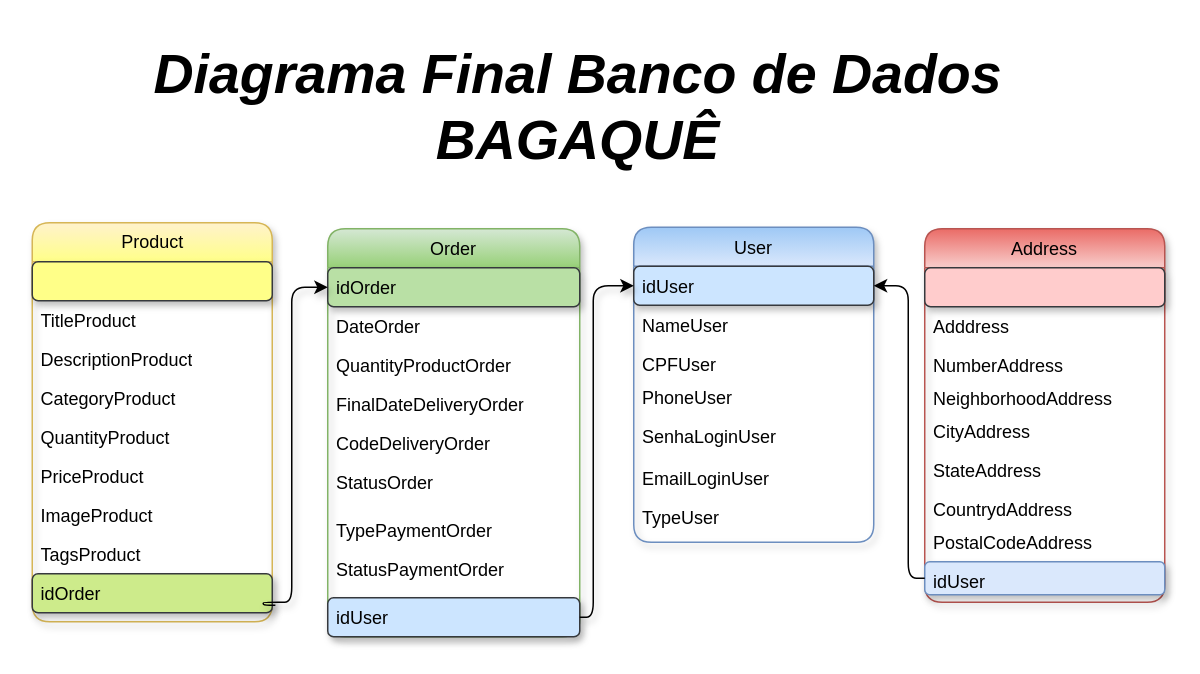
This 1200x674 diagram has some shape labels left out. The shapes that lost their labels are listed below. From the top down, each one's centre as x and y in pixels, then its label:
At point 153,282: "idProduct".
At point 1045,288: "idAddress".
